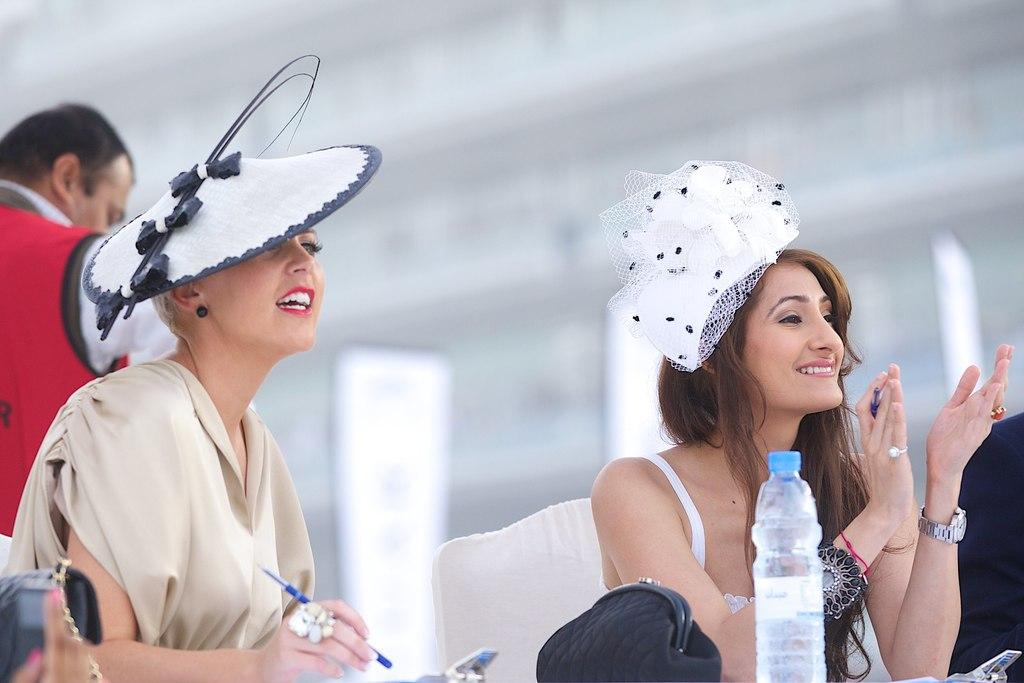Hat: (82, 52, 384, 338)
